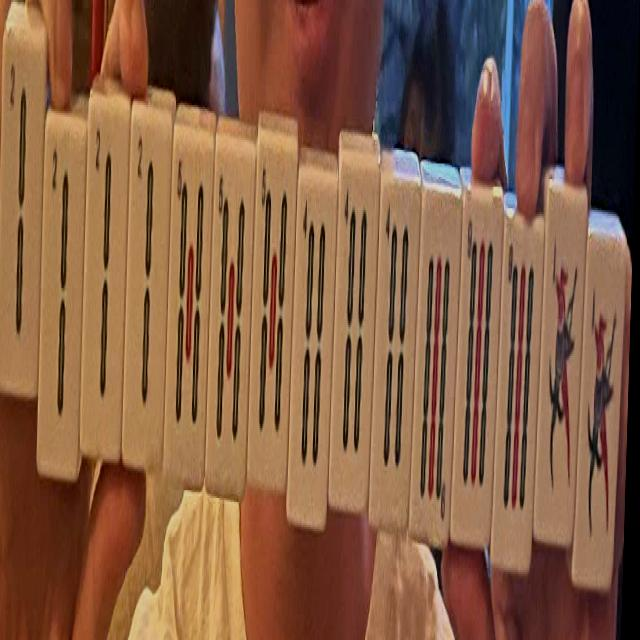s1: (538, 200, 584, 532), (576, 240, 622, 570)
s2: (83, 116, 131, 450), (0, 39, 46, 384), (40, 126, 86, 462), (124, 119, 170, 453)
s4: (288, 170, 334, 524), (329, 172, 376, 508), (372, 188, 418, 512)
s5: (248, 143, 296, 485), (167, 134, 215, 470), (206, 145, 253, 487)
s9: (411, 200, 460, 536), (497, 218, 546, 541), (455, 204, 502, 536)
